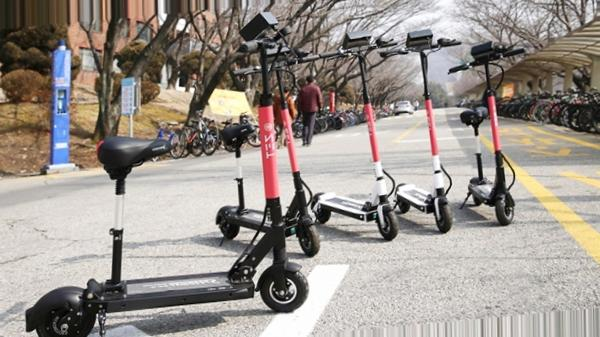scooter: (24, 24, 309, 337), (310, 37, 399, 241), (378, 35, 463, 233), (448, 40, 526, 227)
